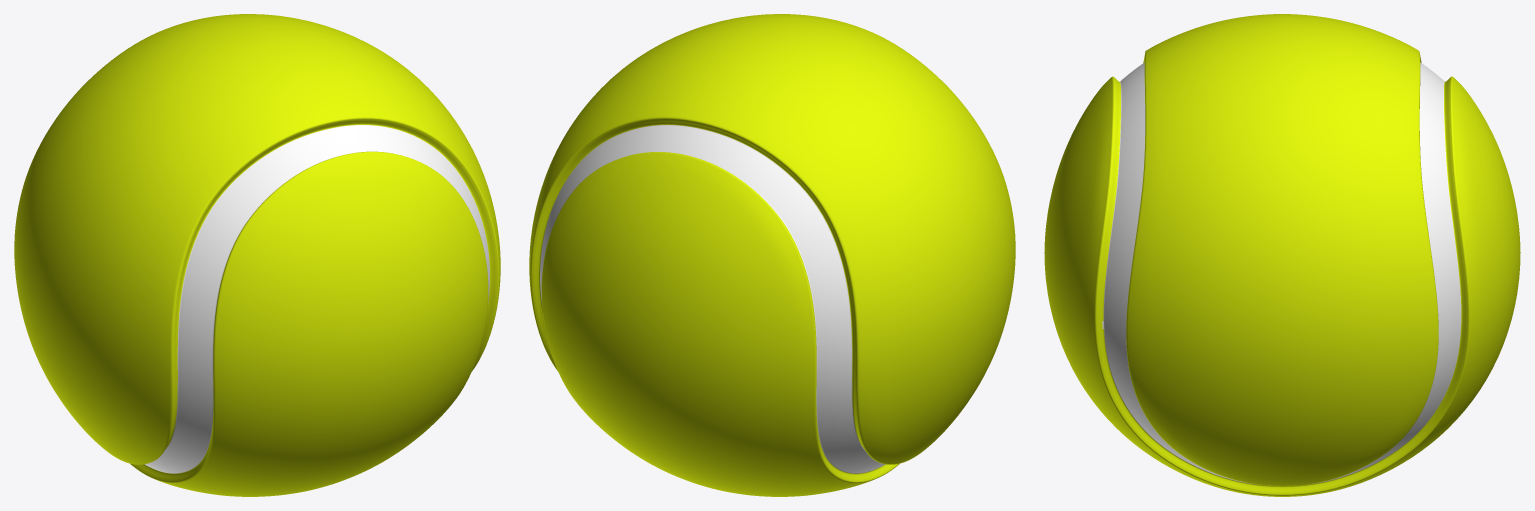
Rendered from tennisball.fbx.
3 renders of one model, left to right at view 1: azimuth 30°, elevation 25°; view 2: azimuth 150°, elevation 25°; view 3: azimuth 270°, elevation 25°, orthographic.
Parts seen in each view (by area): view 1: pCube1 (×2); view 2: pCube1 (×2); view 3: pCube1 (×2).
Part boxes in pixels (x1,y1,x2,y2): pCube1 (×2): [14, 14, 500, 496]; pCube1 (×2): [529, 14, 1015, 496]; pCube1 (×2): [1044, 14, 1520, 496].
Size of the model in its own units: 2.1 by 2.12 by 2.1.
